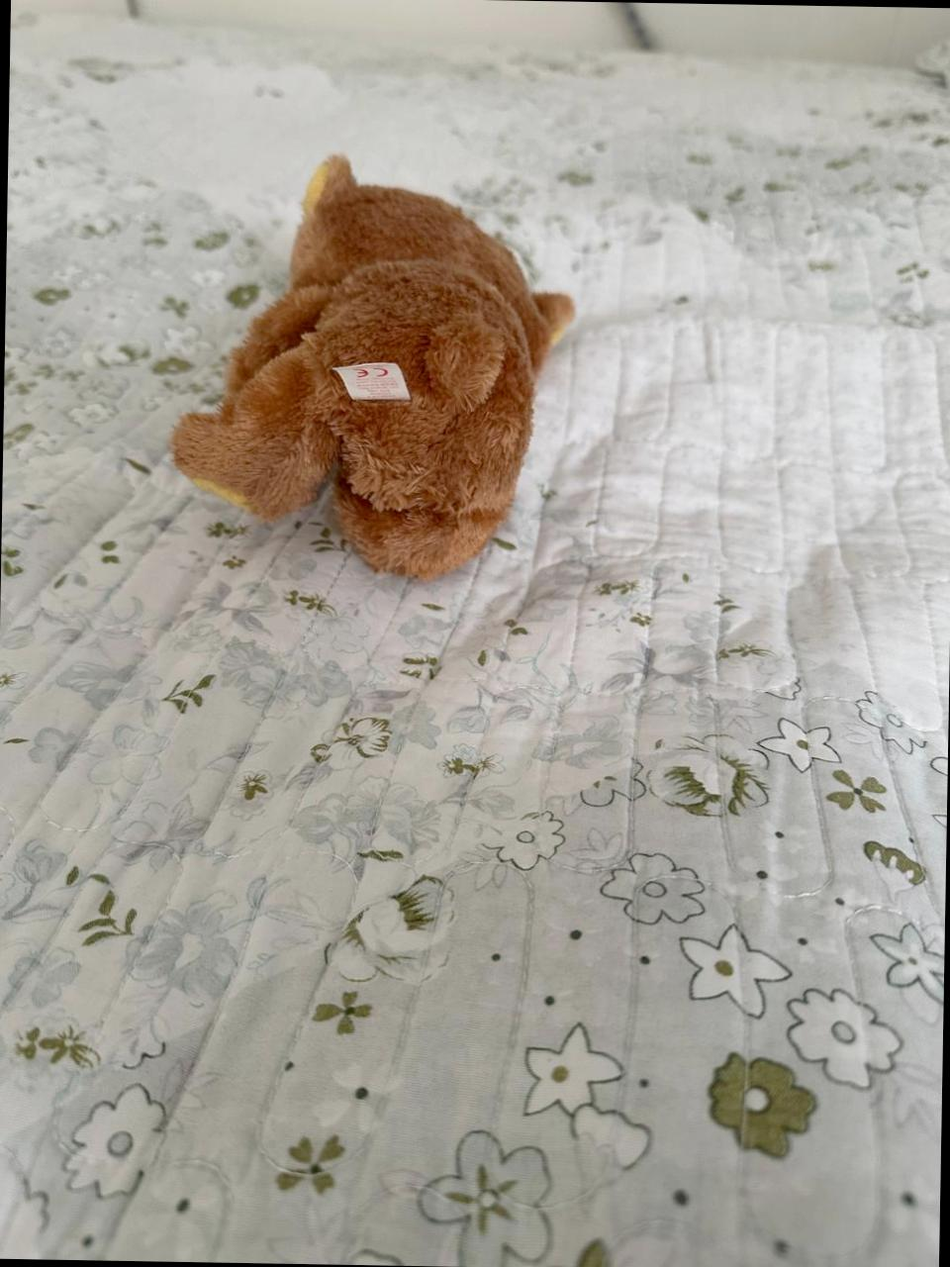peluche_sebastian: (164, 128, 578, 584)
